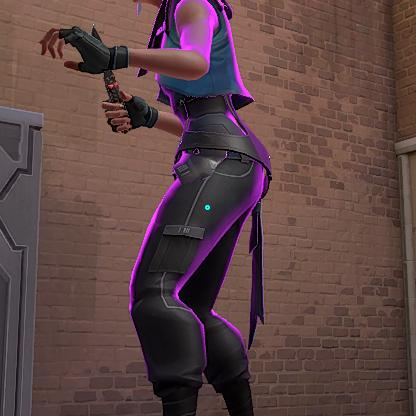enemyBody: (169, 2, 230, 119)
